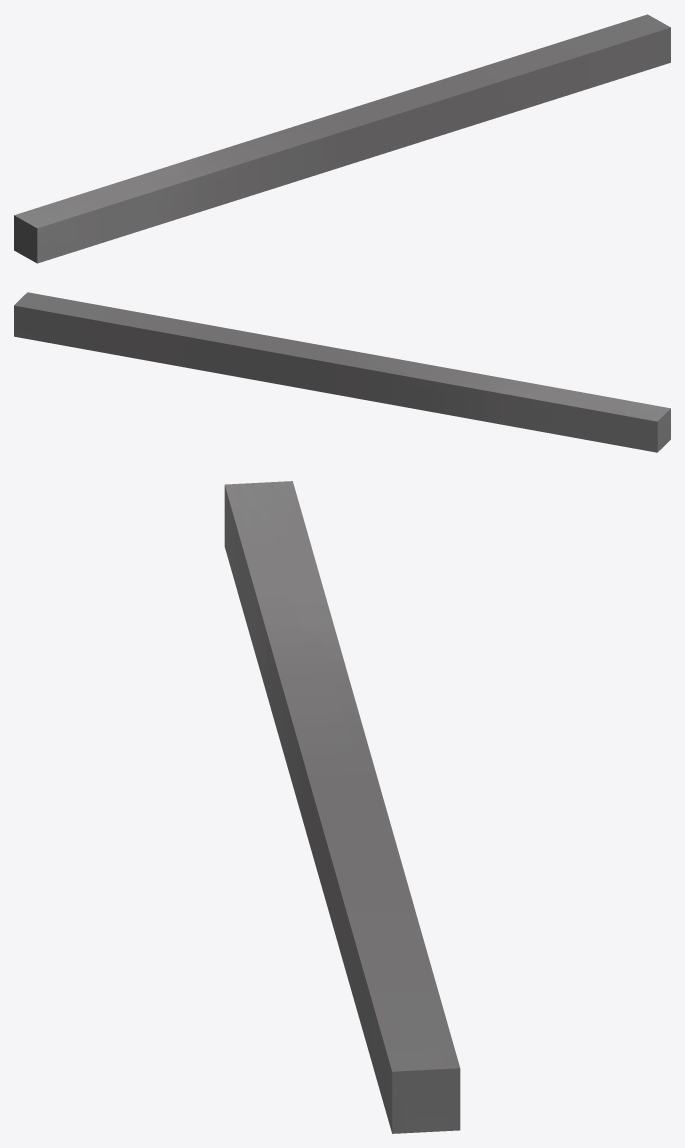
The model's file is frame__rail_1.glb.
3 views of the same model, one above another, from view 1: azimuth 30°, elevation 25°; view 2: azimuth 150°, elevation 25°; view 3: azimuth 270°, elevation 25° (orthographic). The views are drawn at different scales.
Parts seen in each view (by area): view 1: world; view 2: world; view 3: world.
Part boxes in pixels (box(x1,y1,x2,y2)): world: box(14, 14, 670, 263); world: box(14, 292, 670, 452); world: box(224, 481, 460, 1133).
Bounding box in the file's own units: 1.02 × 0.05 × 0.1717.
1 material, 1 textured.
